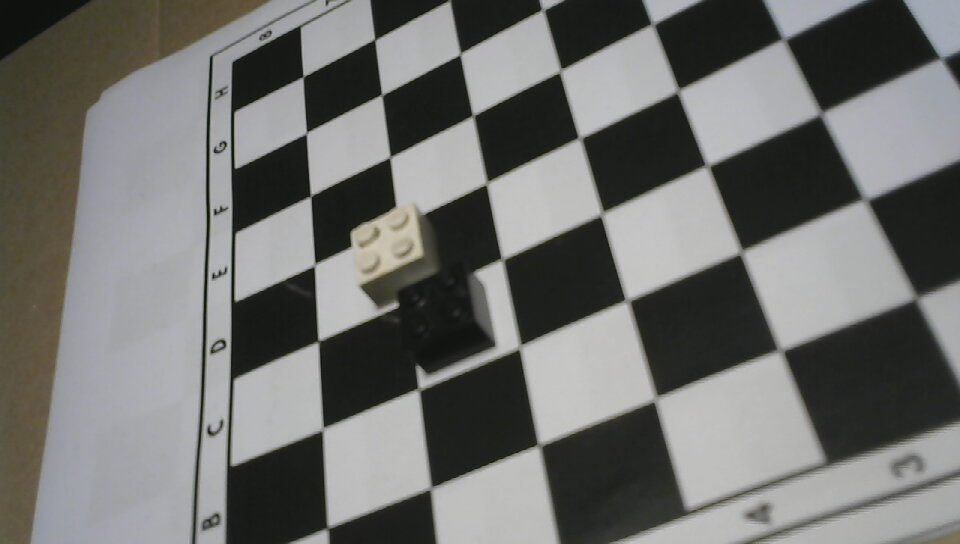bp: (393, 261, 501, 376)
